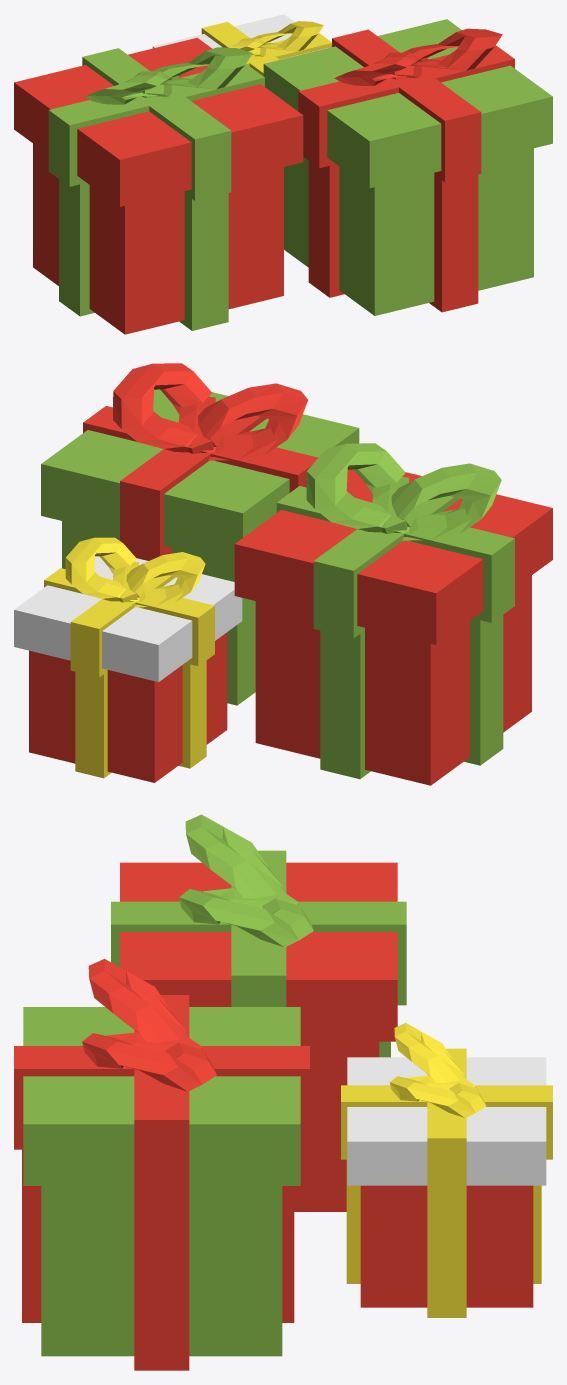
The model's file is SquaredChristmasGifts-transformed.glb.
The picture shows the model from 3 angles, top to bottom: view 1: azimuth 30°, elevation 25°; view 2: azimuth 150°, elevation 25°; view 3: azimuth 270°, elevation 25°; orthographic projection. The views are drawn at different scales.
Visible parts, largest first — view 1: Node; view 2: Node; view 3: Node.
Boxes of the visible parts, x1,y1,x2,y2 form: Node: (14,14,552,334); Node: (14,363,552,785); Node: (14,814,552,1370).
Bounding box in the file's own units: 2.36 × 1.33 × 2.06.
